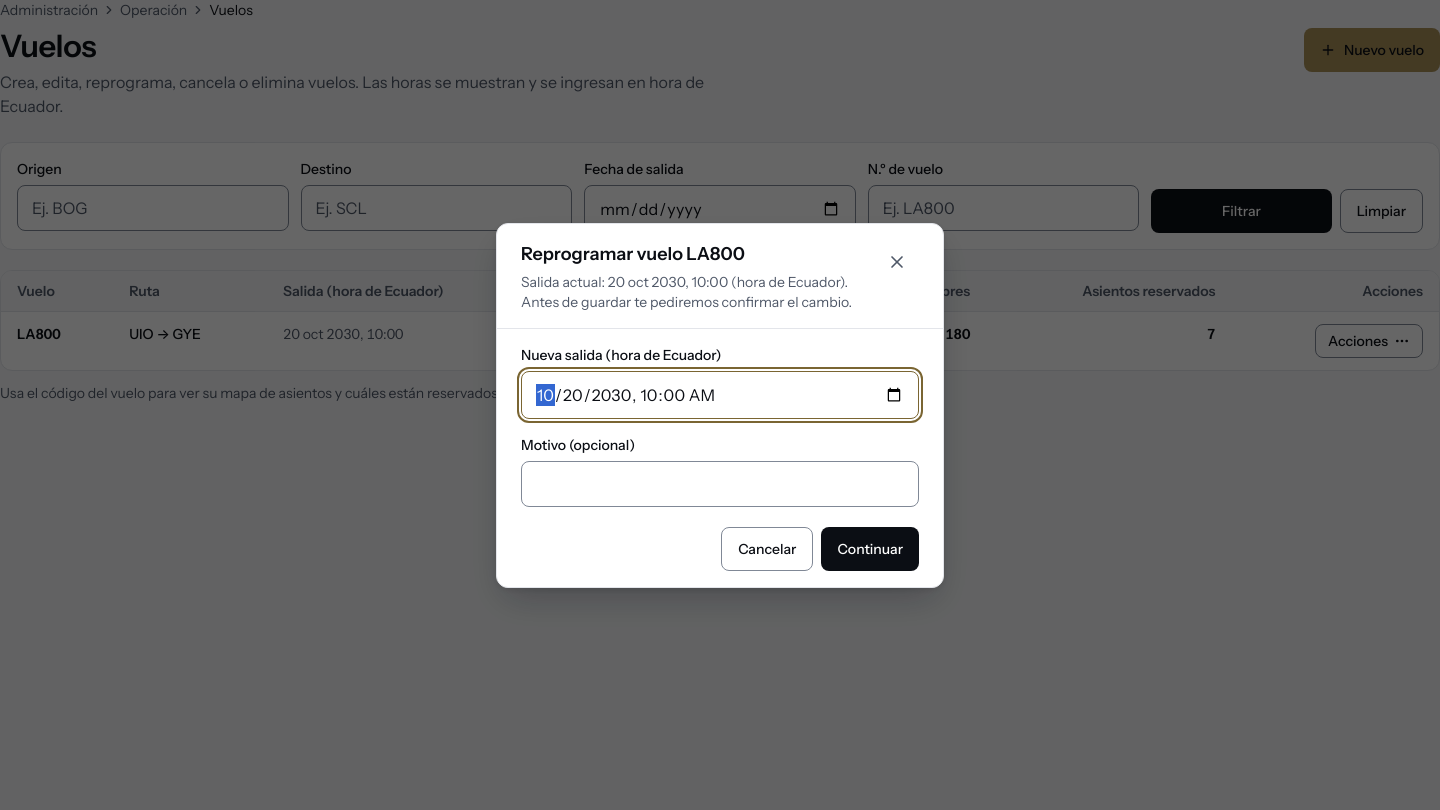
AdminFlightsPage › asks for confirmation before rescheduling, says how many seats are reserved and that clients are told
Earlier steps of the test are not shown.
Replace the text in the field labelled "Nueva salida (hora de Ecuador)" with "2030-10-21T10:00" at [720, 394], box [521,370,919,418]
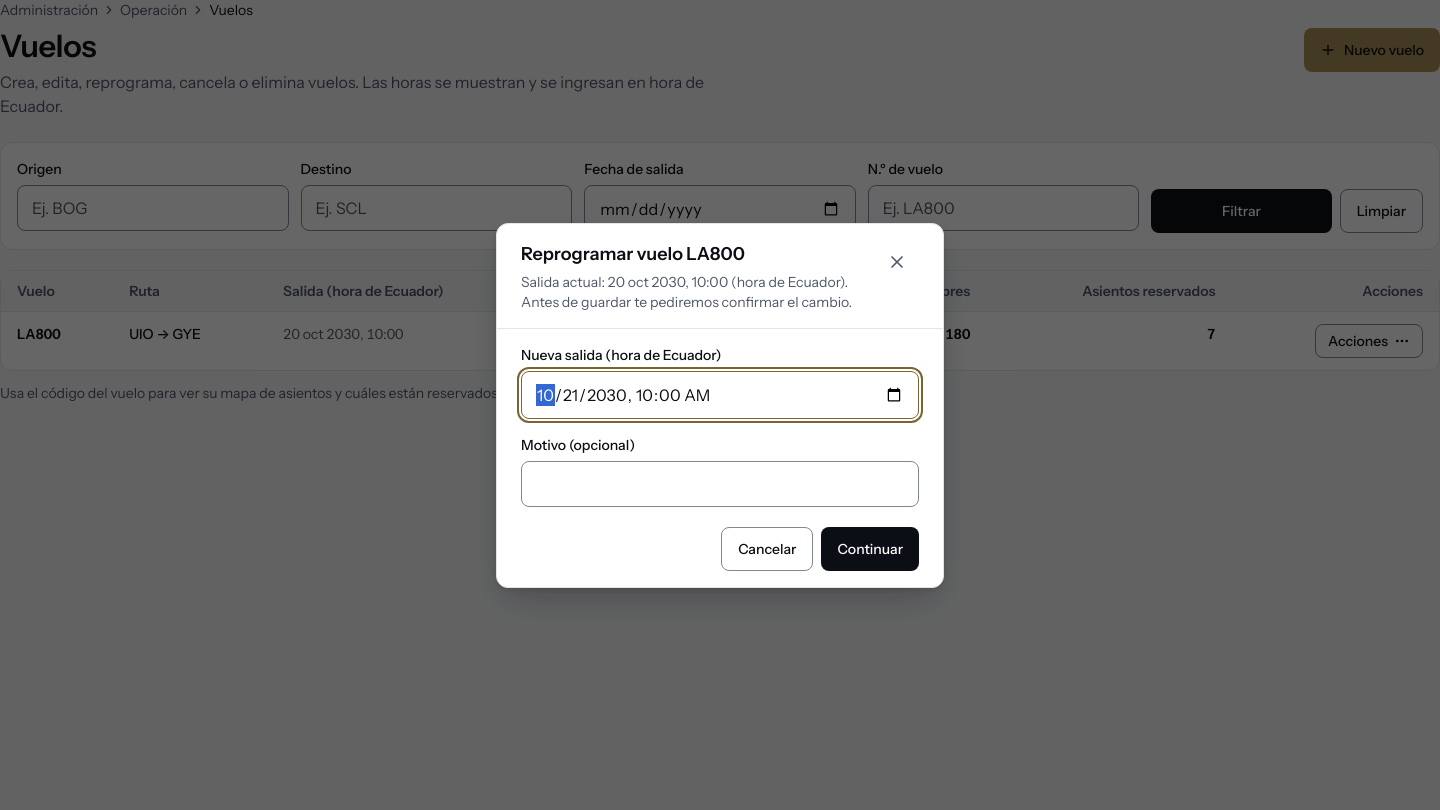
Click the button "Continuar" at [870, 548], box [822,526,919,570]
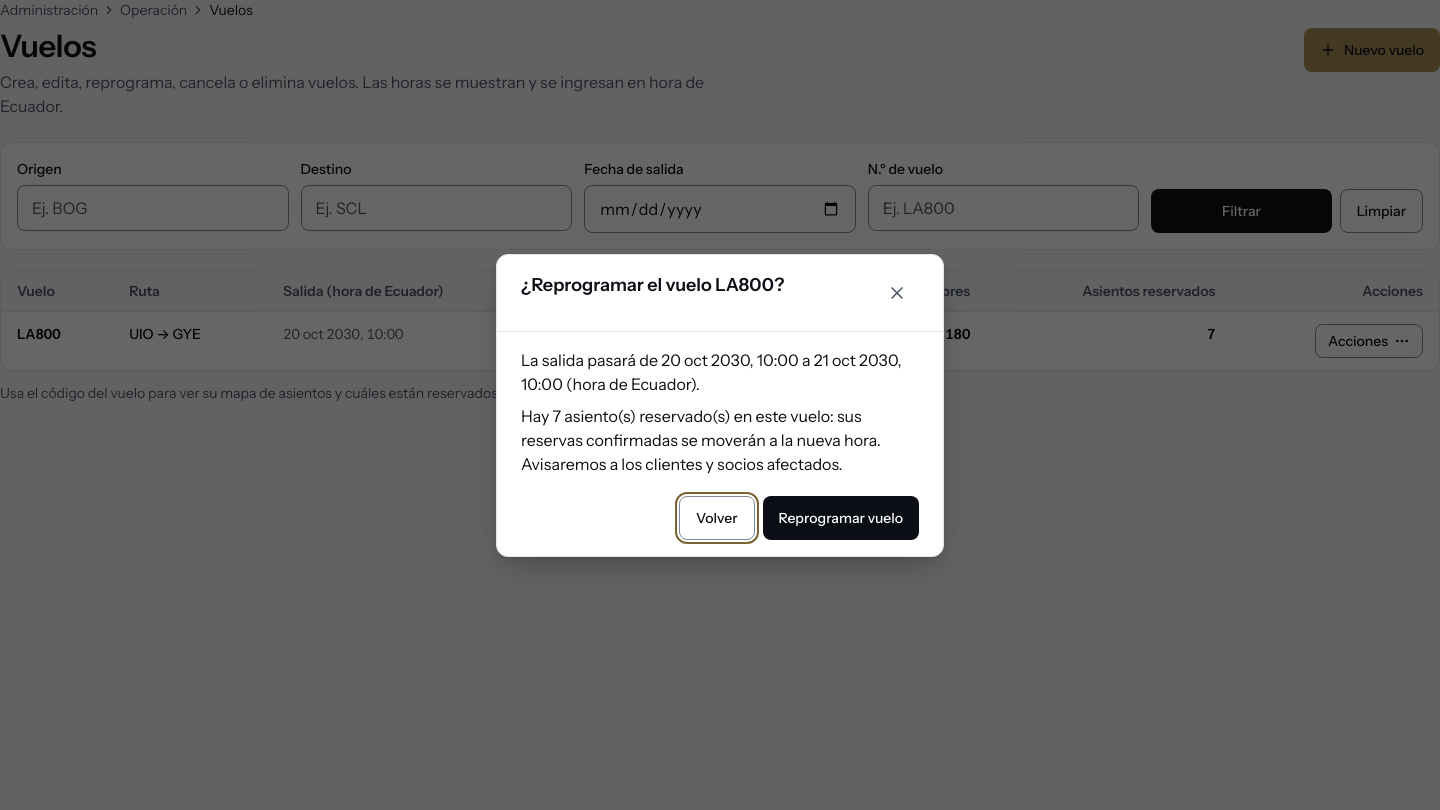
Expected: the dialog "¿Reprogramar el vuelo LA800?" shows "7 asiento(s) reservado(s)", [521,406,881,450]
Expected: the dialog "¿Reprogramar el vuelo LA800?" shows "Avisaremos a los clientes", [521,454,843,474]
Click the button "Reprogramar vuelo" at [841, 518], box [763,496,919,540]
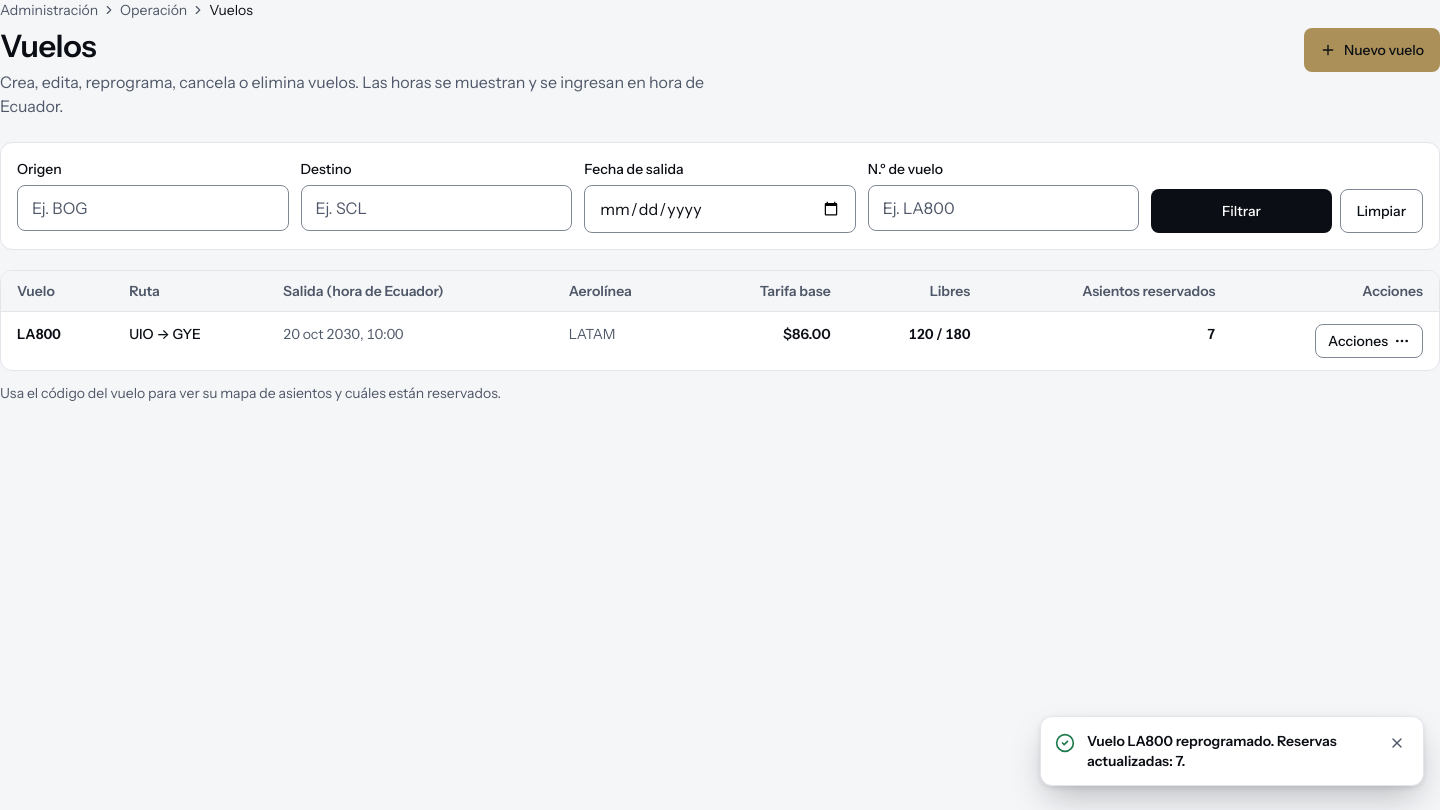
Expected: the text "Vuelo LA800 reprogramado. Reservas actualizadas: 7." is shown, [1087,731,1373,771]
